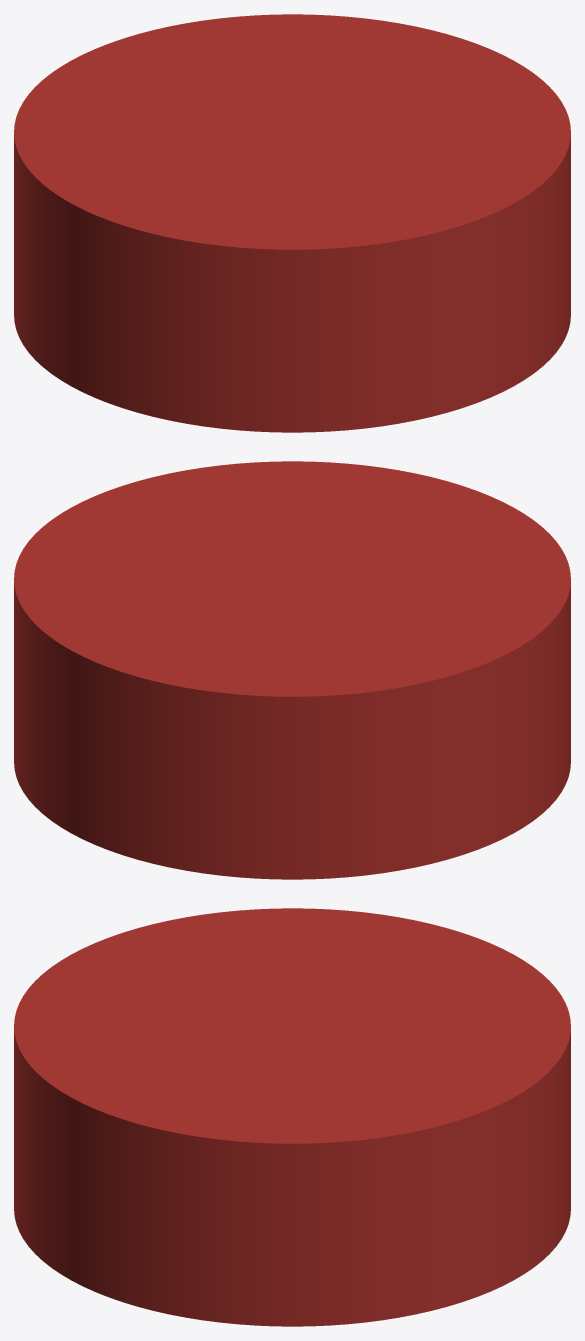
Rendered from air_marker.glb.
The picture shows the model from 3 angles, top to bottom: view 1: azimuth 30°, elevation 25°; view 2: azimuth 150°, elevation 25°; view 3: azimuth 270°, elevation 25°; orthographic projection.
Parts seen in each view (by area): view 1: air_marker; view 2: air_marker; view 3: air_marker.
Part boxes in pixels (x1=…): air_marker: x1=14, y1=14, x2=570, y2=432; air_marker: x1=14, y1=461, x2=570, y2=879; air_marker: x1=14, y1=908, x2=570, y2=1326.
Size of the model in its own units: 0.0166 by 0.006 by 0.0166.
2 materials, 1 textured.
